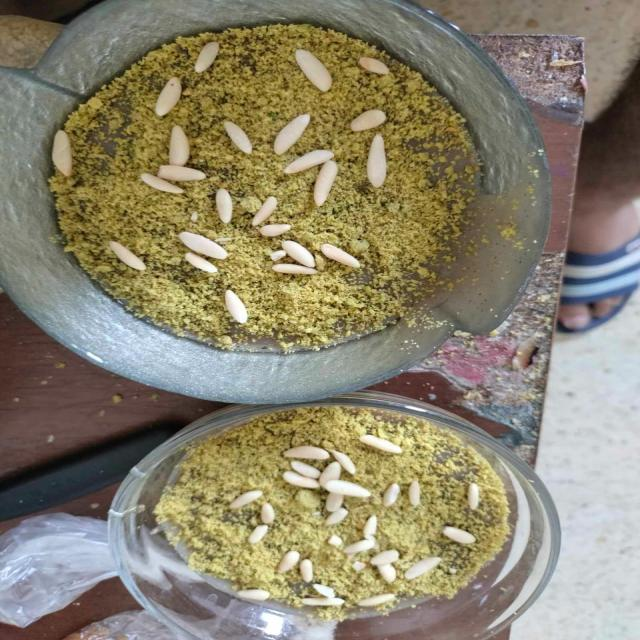asida-zkoukou: (30, 8, 579, 388), (85, 392, 561, 636)
